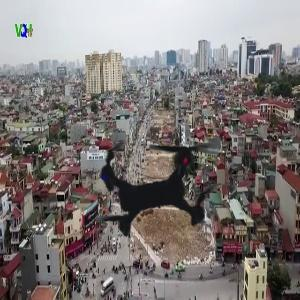drone: (49, 75, 266, 292)
